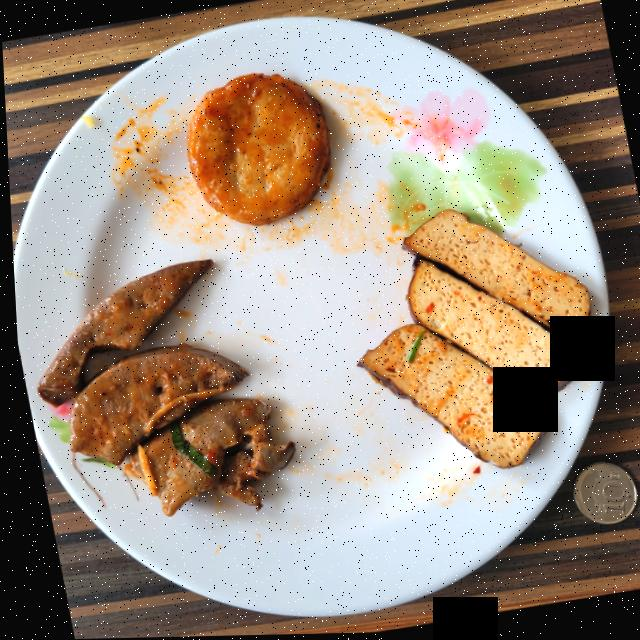coin: (568, 465, 632, 527)
firm tofu: (355, 211, 587, 470)
fish cake: (186, 75, 329, 227)
pig liver: (34, 261, 290, 516)
